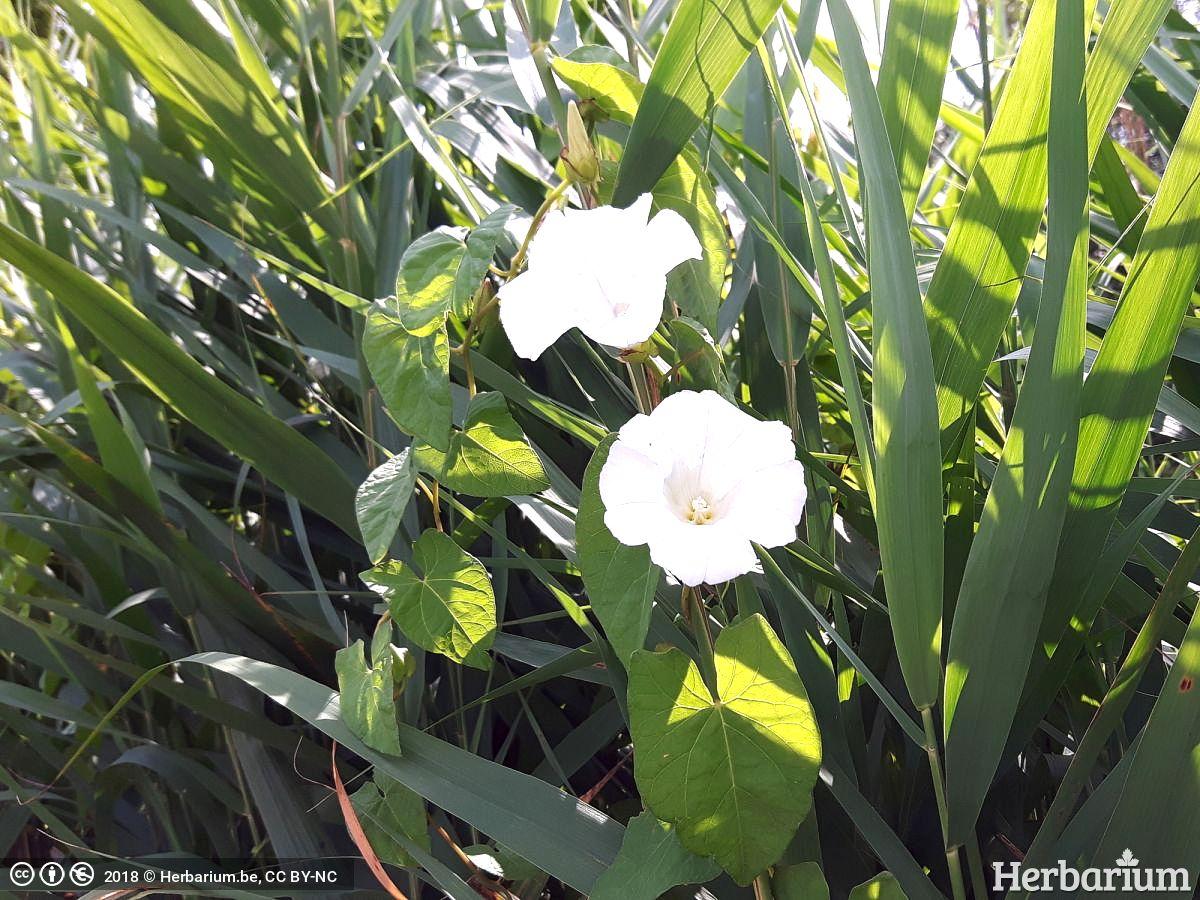haagwinde: (597, 604, 866, 890), (585, 373, 825, 601), (489, 181, 716, 373), (329, 267, 468, 463), (345, 523, 517, 681)
